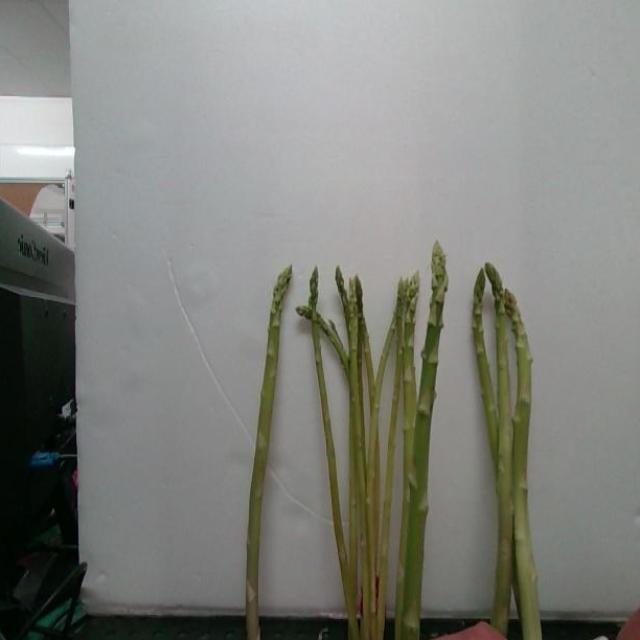aspargus: (404, 244, 448, 640), (247, 269, 293, 640), (503, 285, 541, 640)
